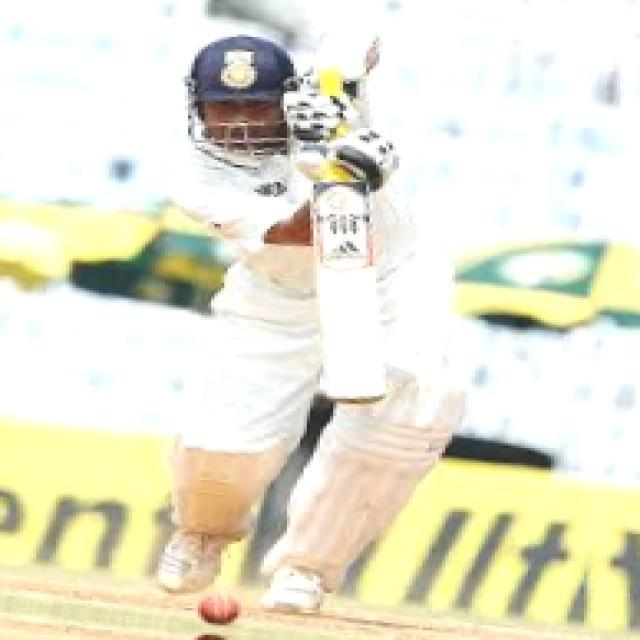bat: (306, 176, 396, 410)
toe: (321, 393, 388, 402)
